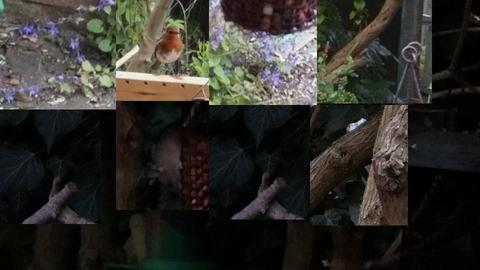mouse: (148, 126, 184, 194)
robin: (148, 25, 184, 78)
